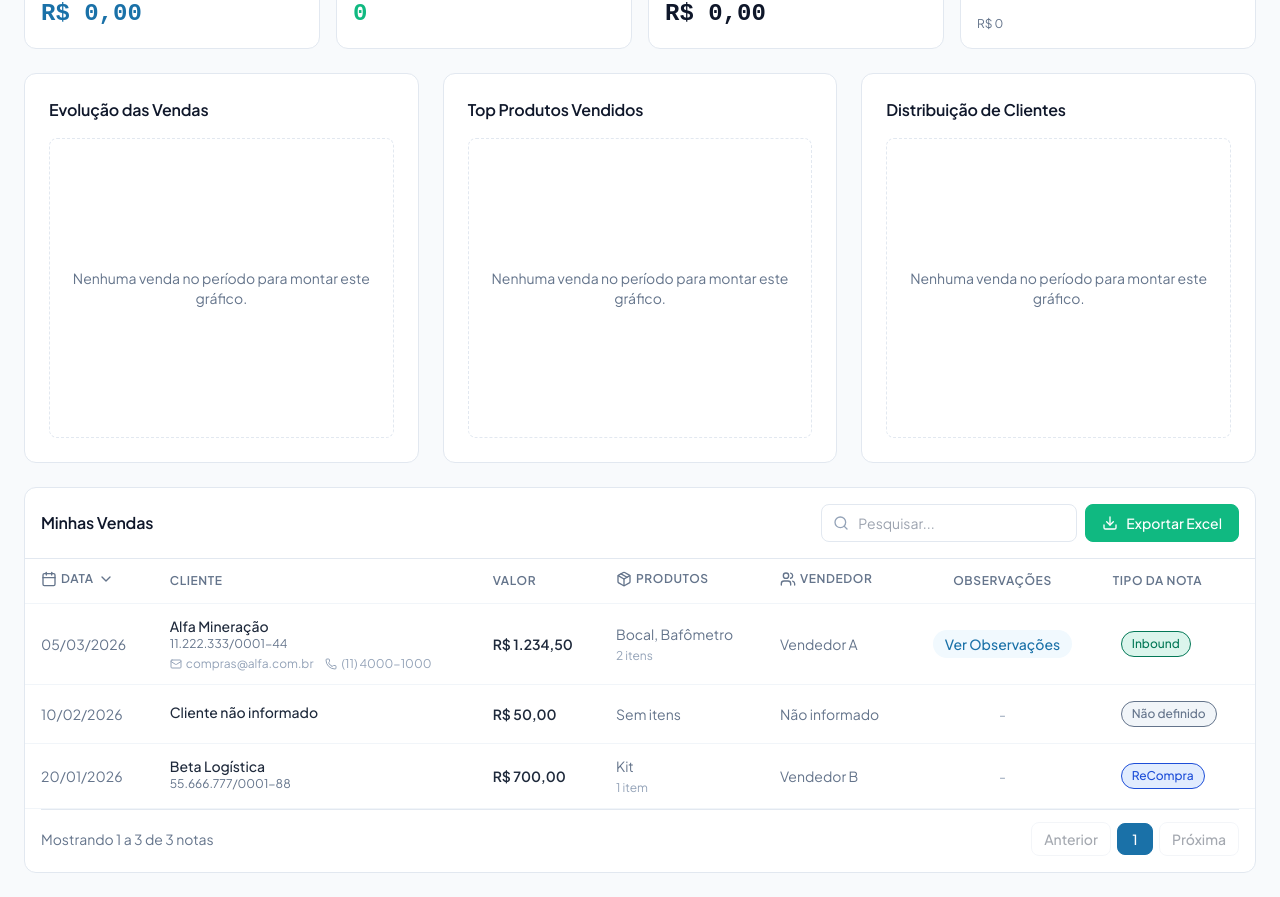
Test: edicao do tipo da nota em Vendedores › abrir a edicao e um botao com nome, que o teclado alcanca
(page scrolled)
Click the button with aria-label "Editar tipo da nota: Inbound" at (1156, 644), box 1113,627 -> 1199,661
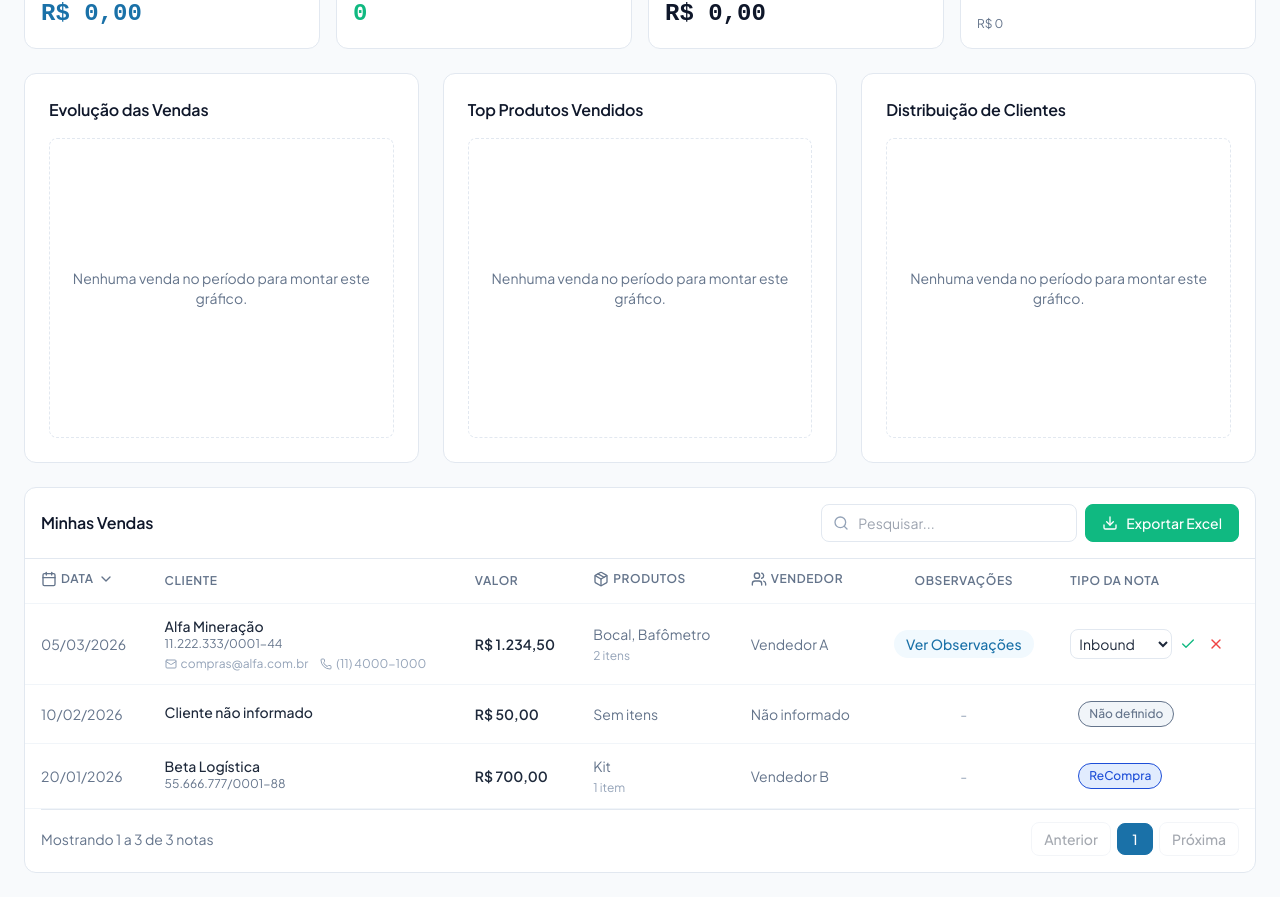
Now the dropdown shows "Inbound", box 1070,629 -> 1172,659
